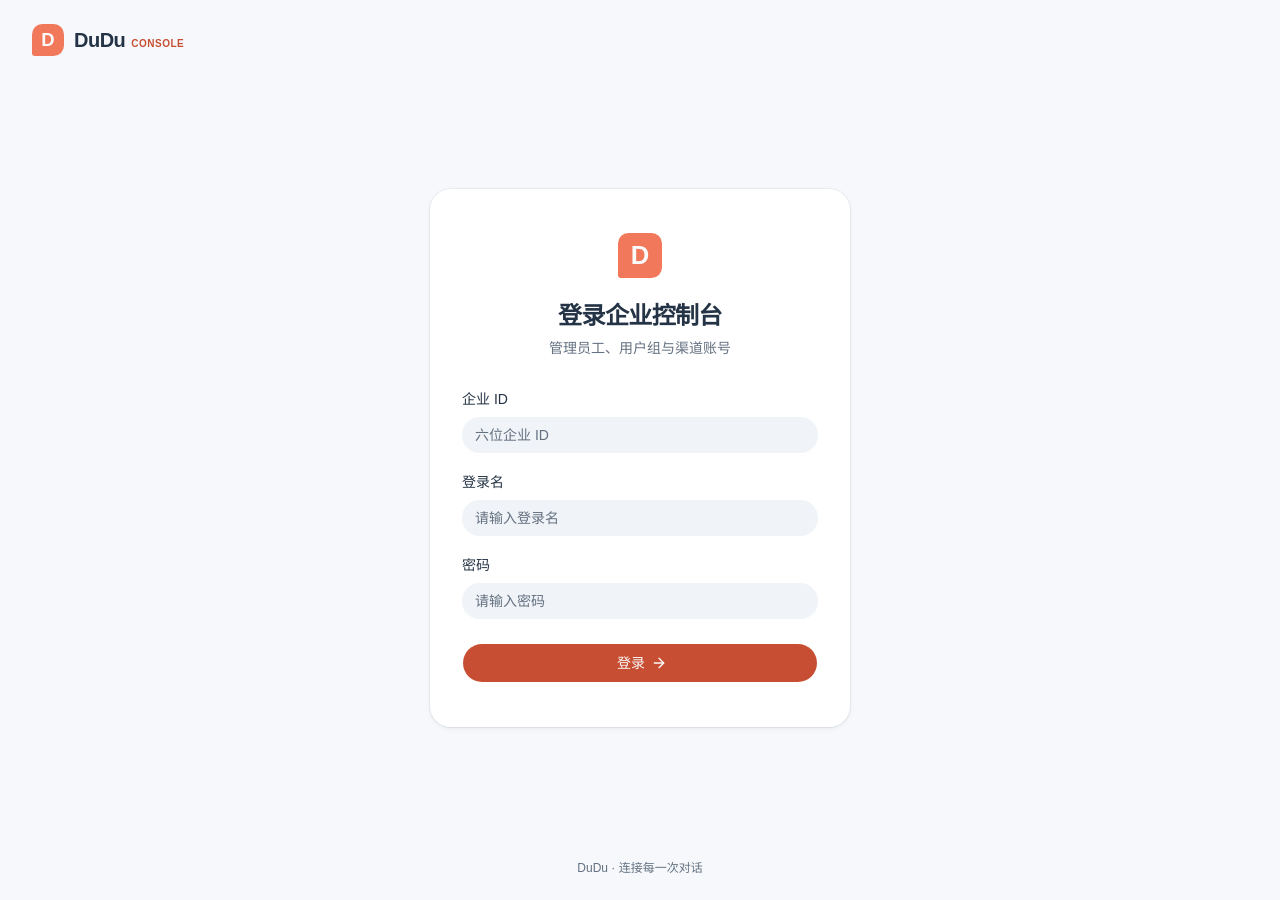
Test case: 初始管理员登录后进入真实员工管理页面
In the field labelled "企业 ID": (640, 435) [462, 417, 818, 453], type "100001"
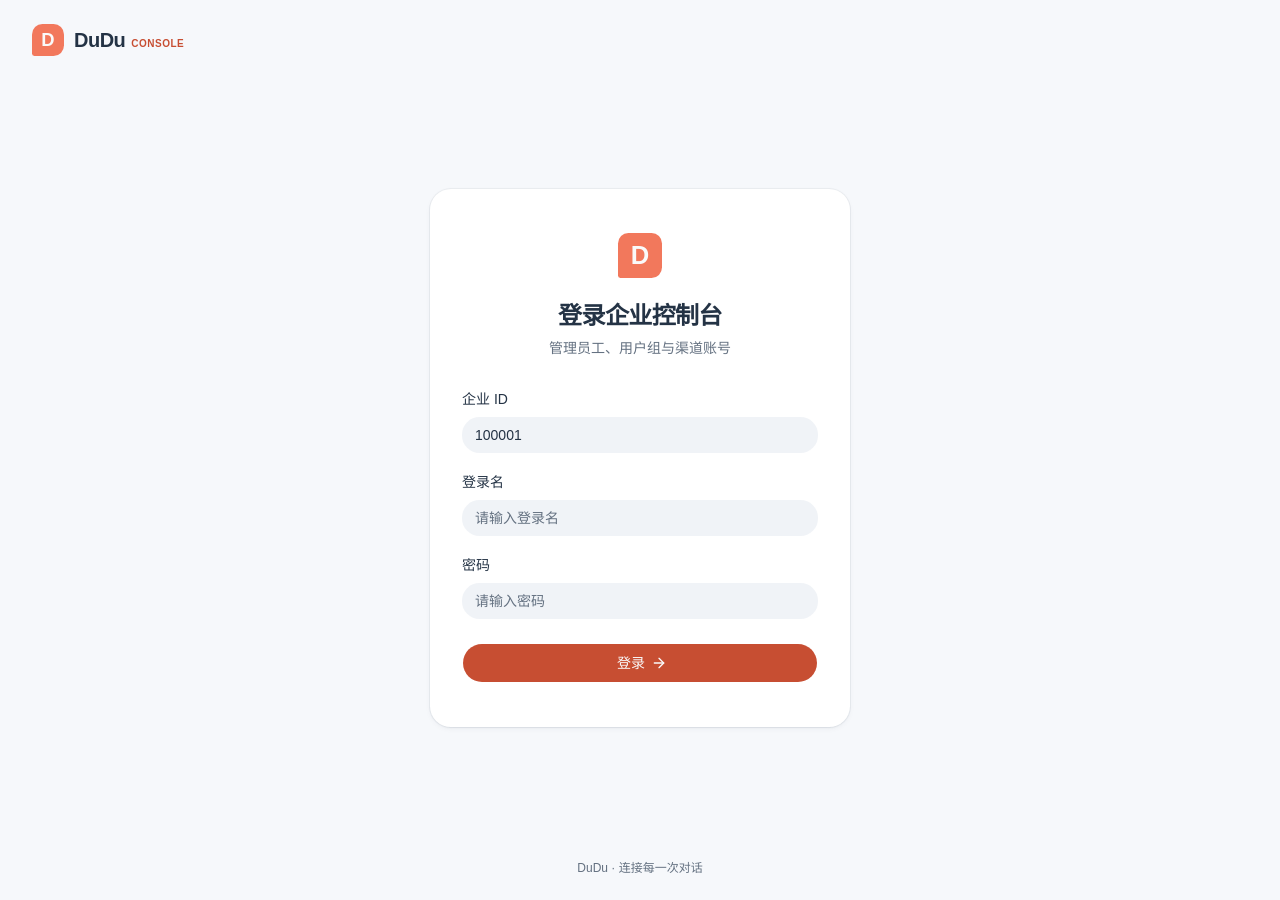
In the field labelled "登录名": (640, 518) [462, 500, 818, 536], type "admin"
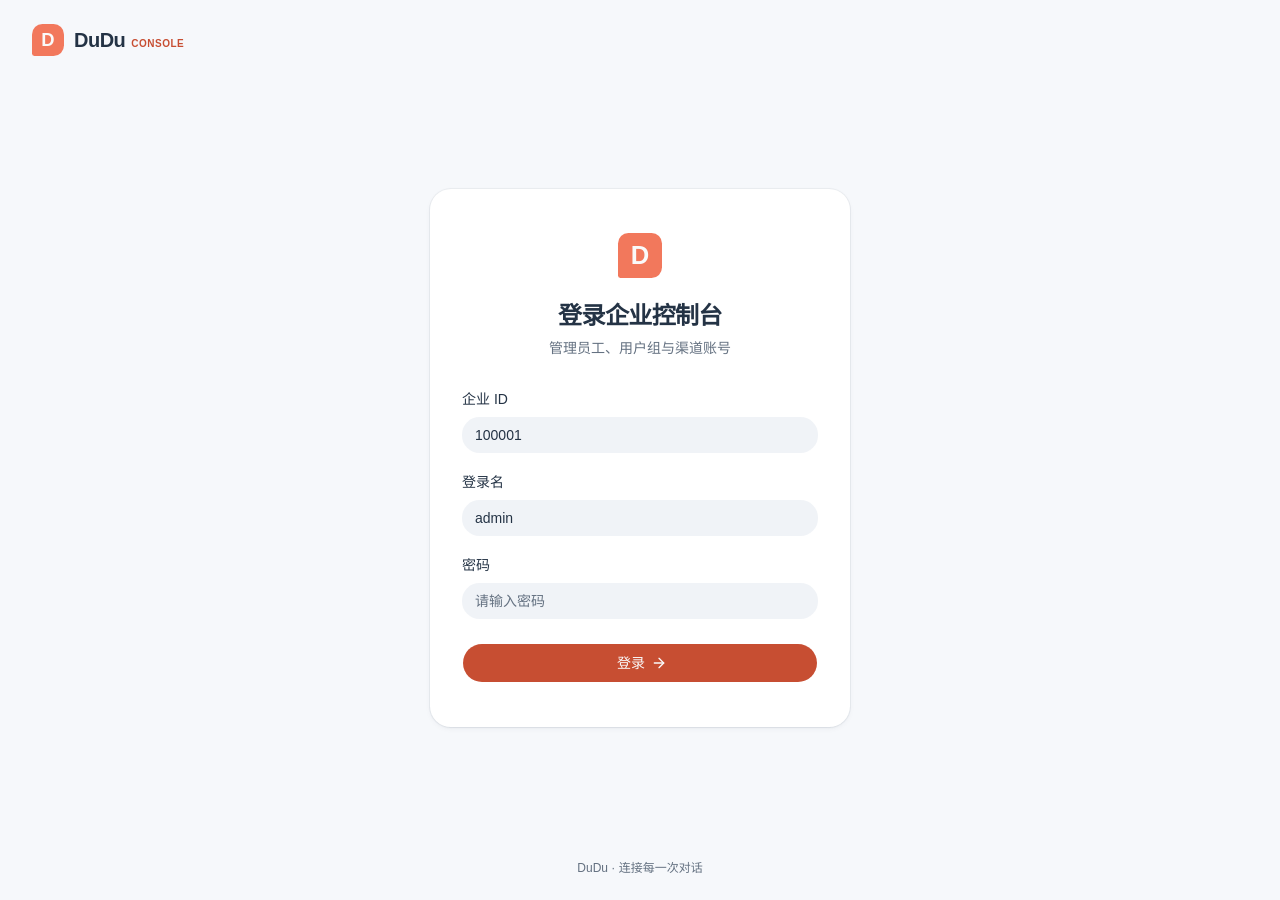
In the password field labelled "密码": (640, 601) [462, 583, 818, 619], type "fixture-only"
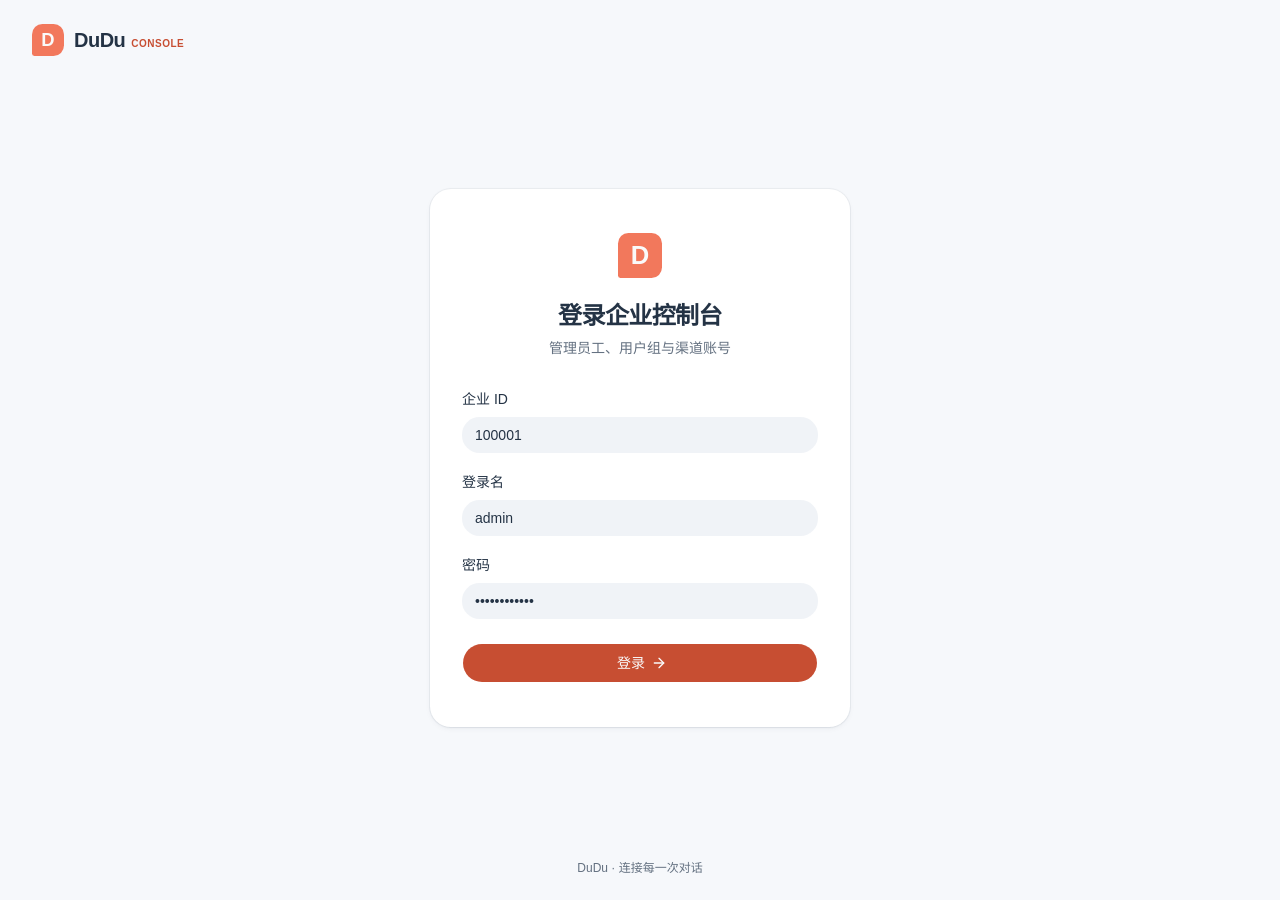
Click the button "登录": (640, 663) [462, 643, 818, 683]
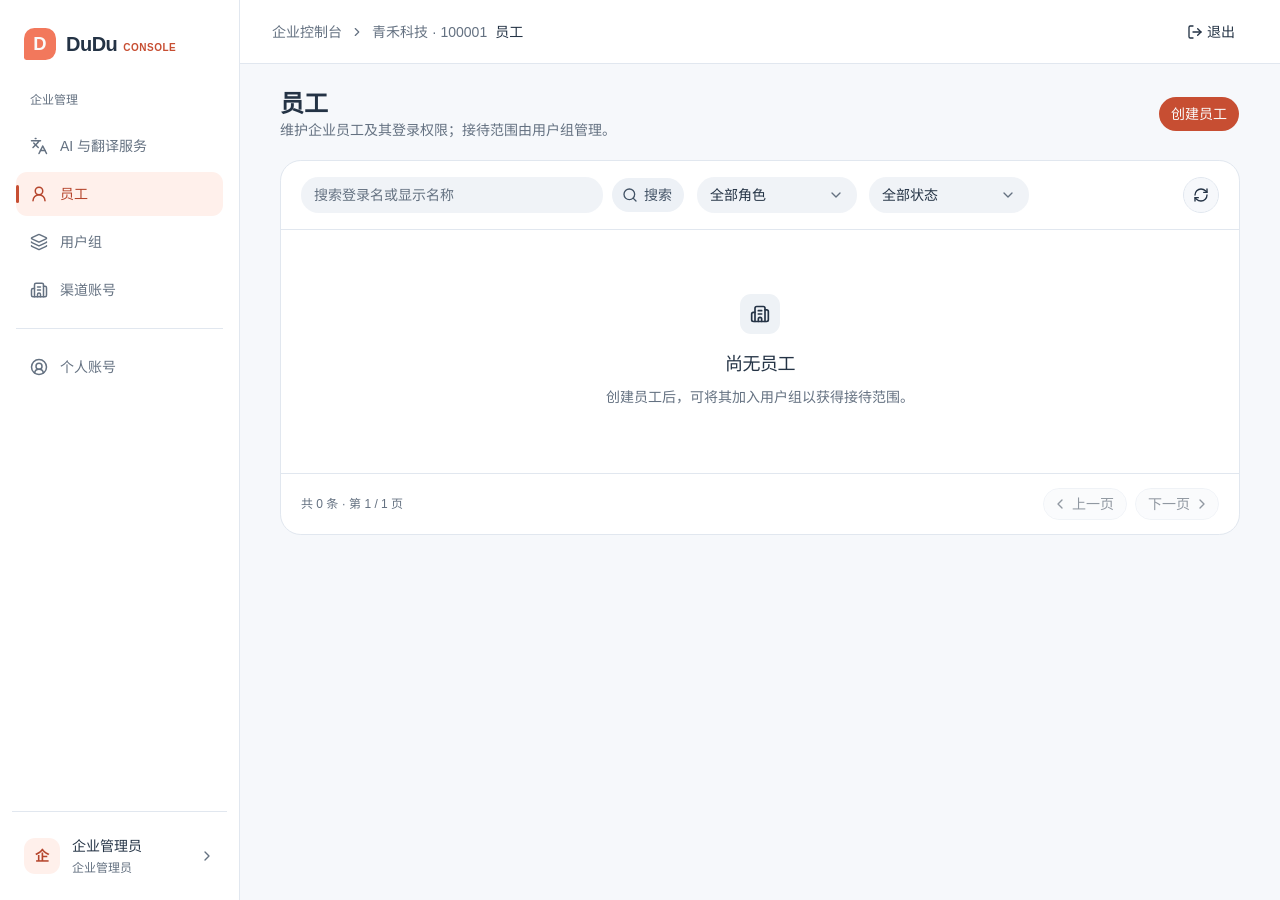
Result: the button "创建员工" is shown at [1158, 96, 1240, 132]
